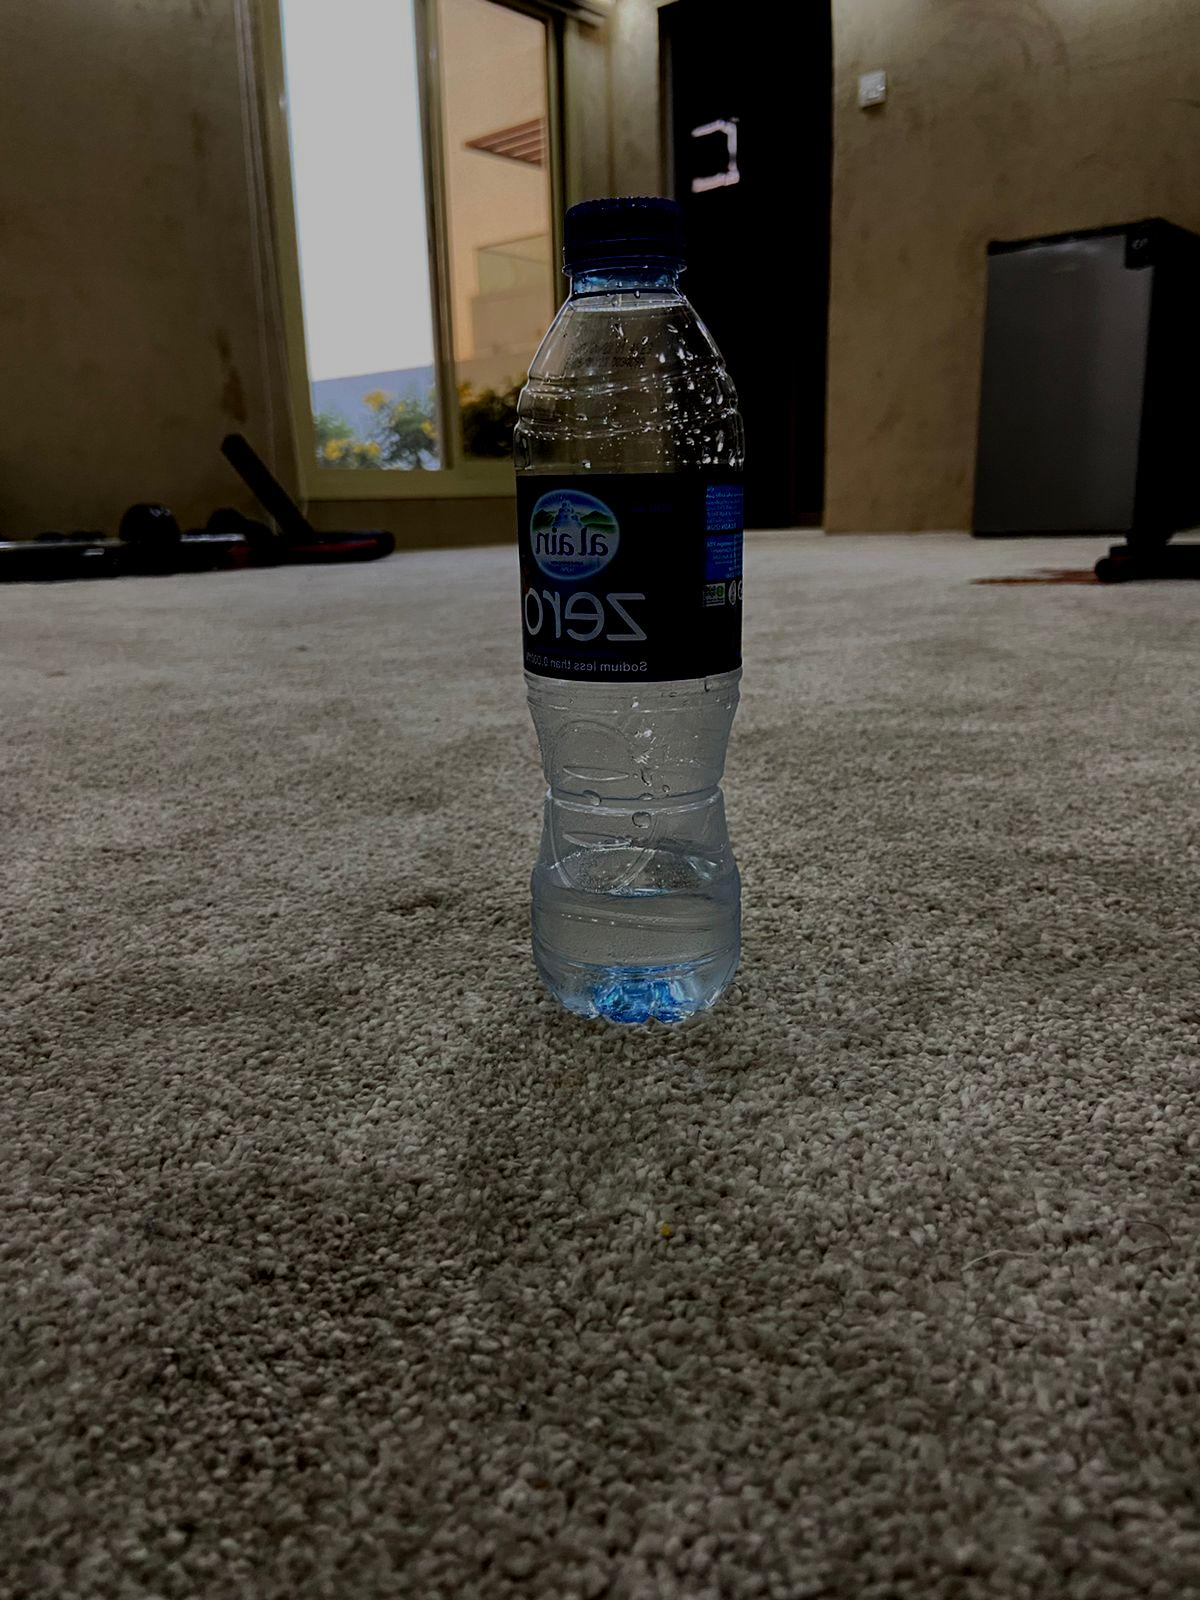bottle: (505, 188, 754, 1043)
